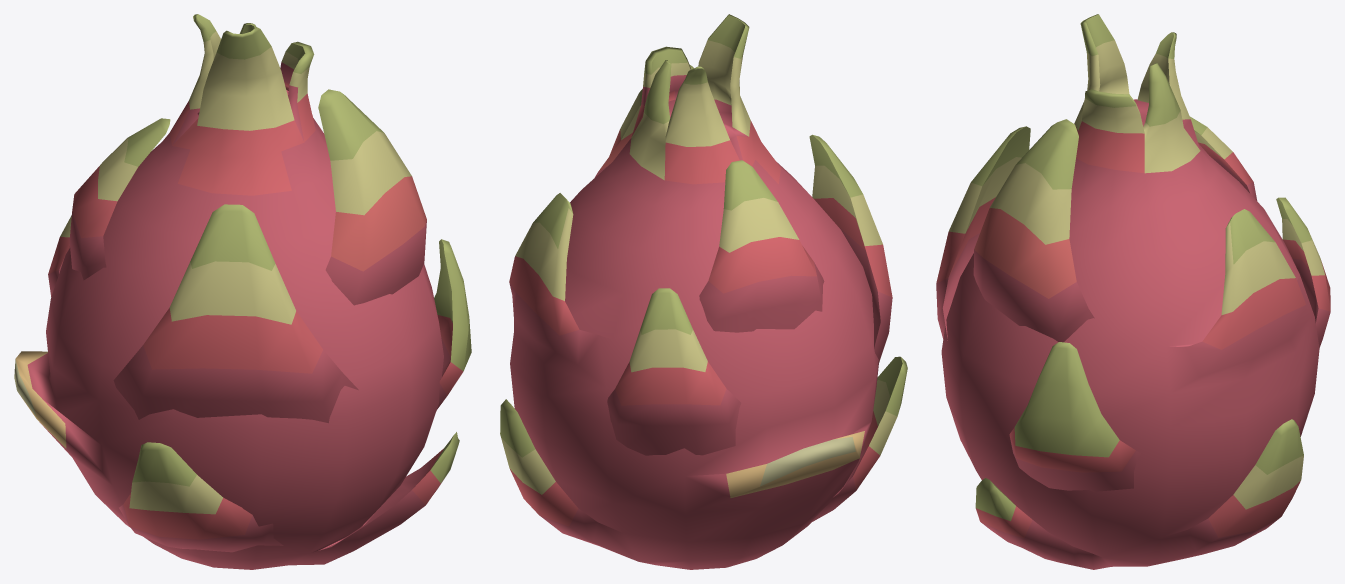
File: atoll_sm_dragonfruit.fbx
The picture shows the model from 3 angles, left to right: view 1: azimuth 30°, elevation 25°; view 2: azimuth 150°, elevation 25°; view 3: azimuth 270°, elevation 25°; orthographic projection. The views are drawn at different scales.
Visible parts, largest first — view 1: Dragonfruit; view 2: Dragonfruit; view 3: Dragonfruit.
Boxes of the visible parts, x1,y1,x2,y2 form: Dragonfruit: (14,14,471,569); Dragonfruit: (500,14,907,569); Dragonfruit: (936,14,1330,569).
Bounding box in the file's own units: 8.98 × 12.39 × 8.45.
